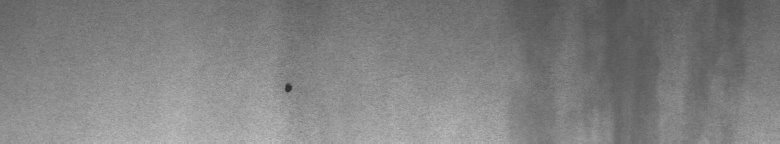fi: (277, 73, 302, 104)
